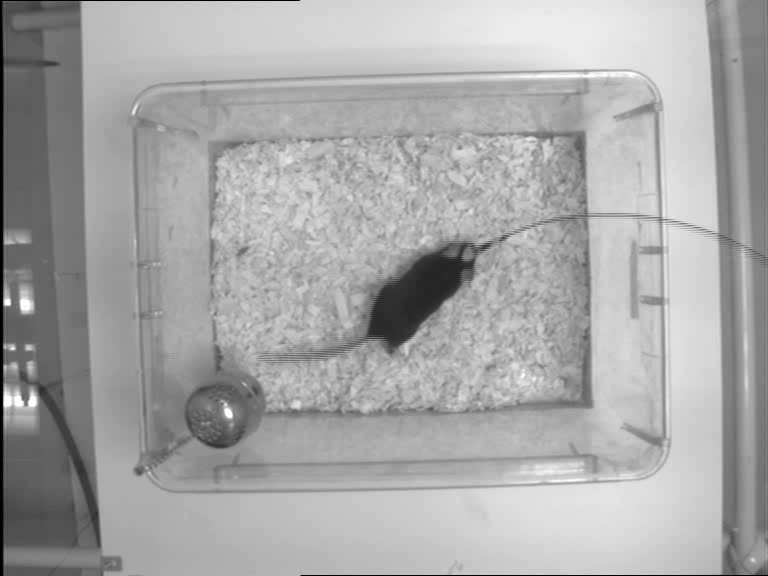mice: (254, 240, 480, 367)
